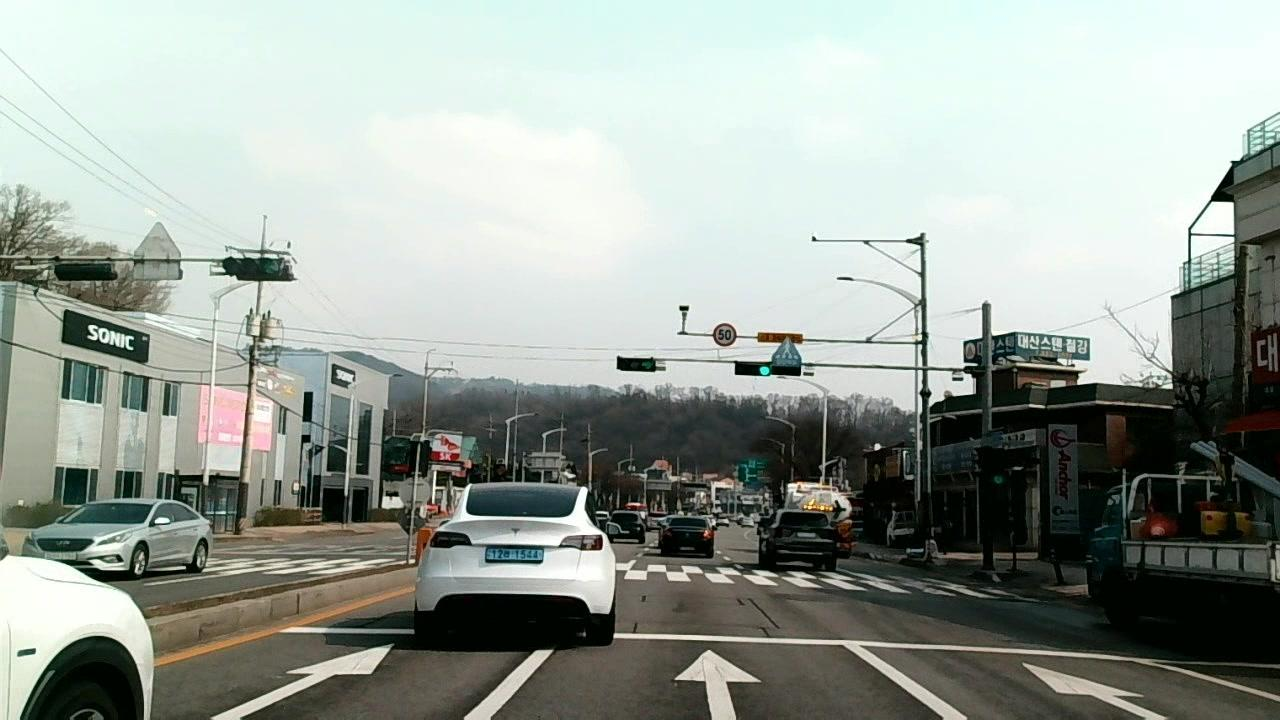banner: (748, 594, 780, 628), (759, 626, 772, 641), (734, 593, 745, 606), (639, 589, 646, 604), (631, 619, 638, 633)
